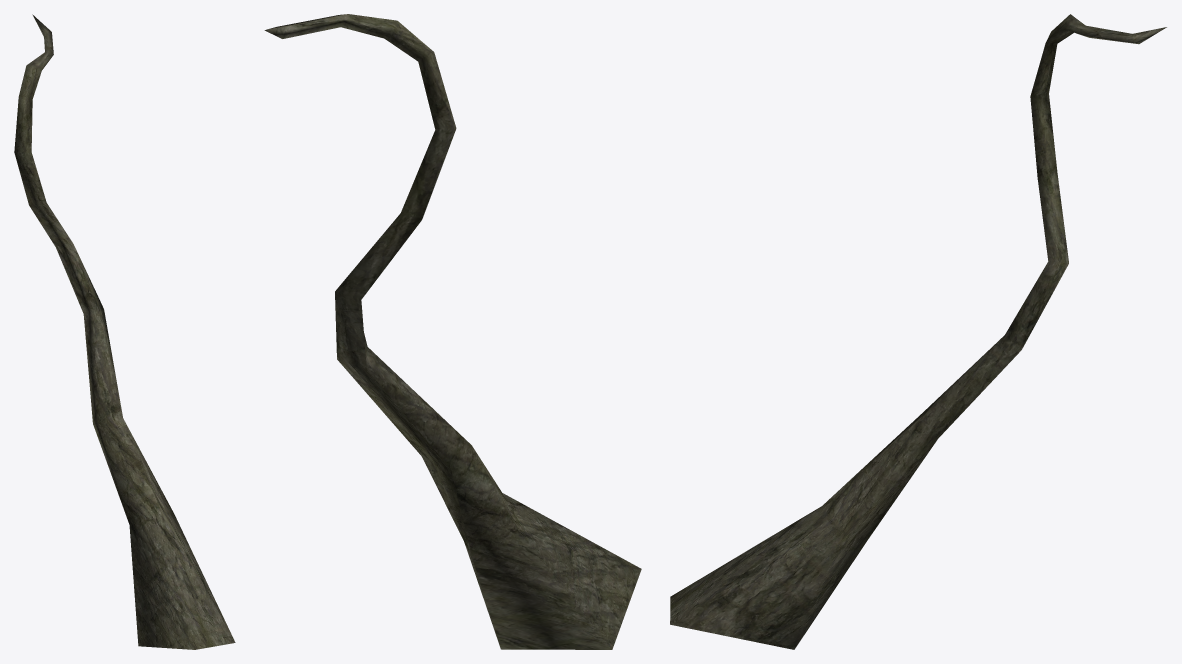
File: TI_Old_Tree_Branch_07.fbx
3 views of the same model, side by side, from view 1: azimuth 30°, elevation 25°; view 2: azimuth 150°, elevation 25°; view 3: azimuth 270°, elevation 25° (orthographic). The views are drawn at different scales.
Visible parts, largest first — view 1: TI_Old_Tree_Branch_07; view 2: TI_Old_Tree_Branch_07; view 3: TI_Old_Tree_Branch_07.
Boxes of the visible parts, box(x1,y1,x2,y2) form: TI_Old_Tree_Branch_07: box(14, 14, 235, 649); TI_Old_Tree_Branch_07: box(264, 14, 641, 649); TI_Old_Tree_Branch_07: box(670, 14, 1166, 649).
Bounding box in the file's own units: 1.23 × 7.13 × 5.16.
